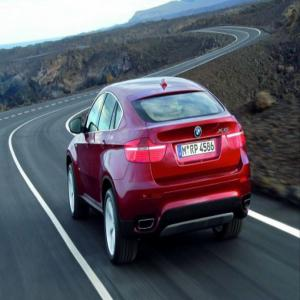Vehicle-registration-plate: (182, 140, 212, 167)
